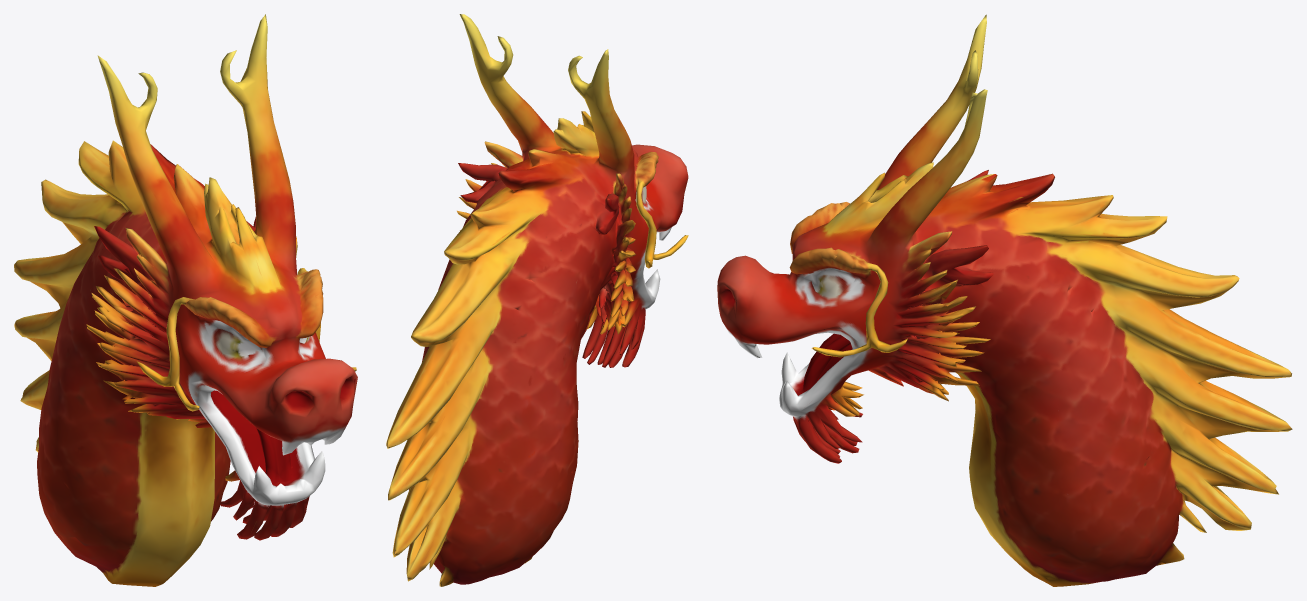
Rendered from kopf.glb.
3 renders of one model, left to right at view 1: azimuth 30°, elevation 25°; view 2: azimuth 150°, elevation 25°; view 3: azimuth 270°, elevation 25°, orthographic. The views are drawn at different scales.
Size of the model in its own units: 0.3561 by 0.9996 by 1.
1 material, 1 textured.
